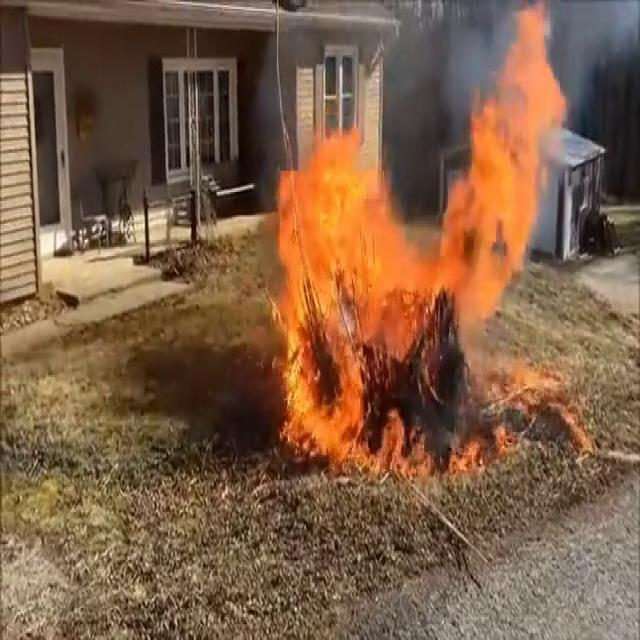Fire: (262, 13, 571, 467)
